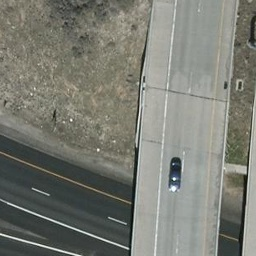car: (168, 160, 181, 191)
